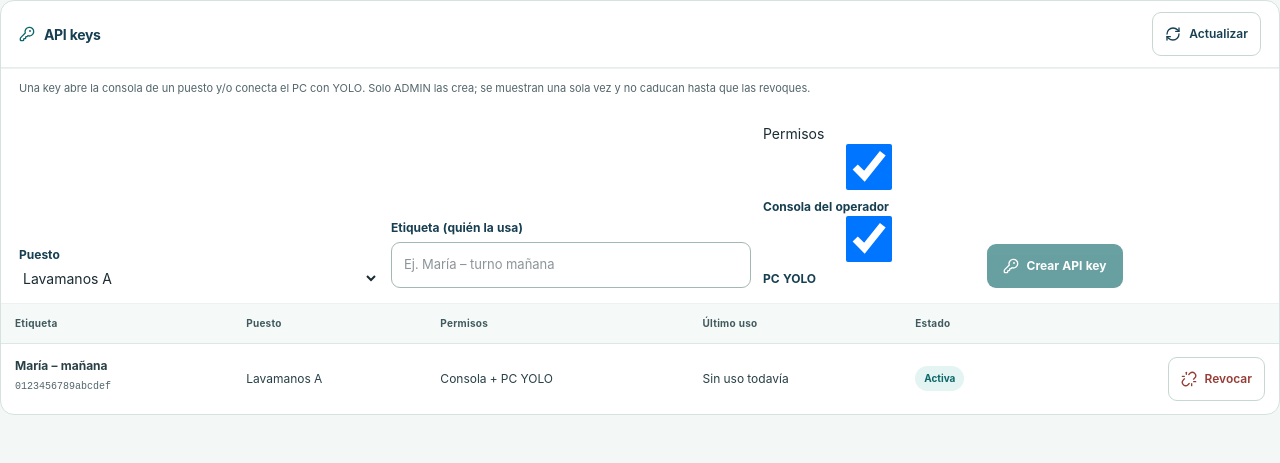
Test case: AdminApiKeysPanel › revokes after confirmation and marks the key as revoked
The width and height of the screenshot is (1280, 463).
Click the button "Revocar": point(1216, 378) x1=1168 y1=356 x2=1265 y2=400
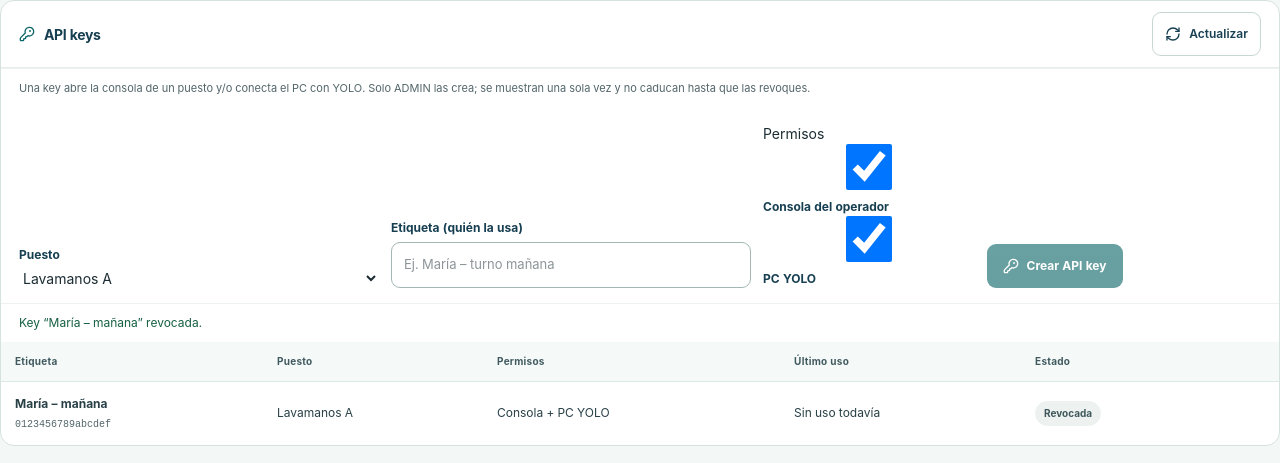
expect the text "Revocada" is shown: met, box x1=1035 y1=400 x2=1101 y2=426
